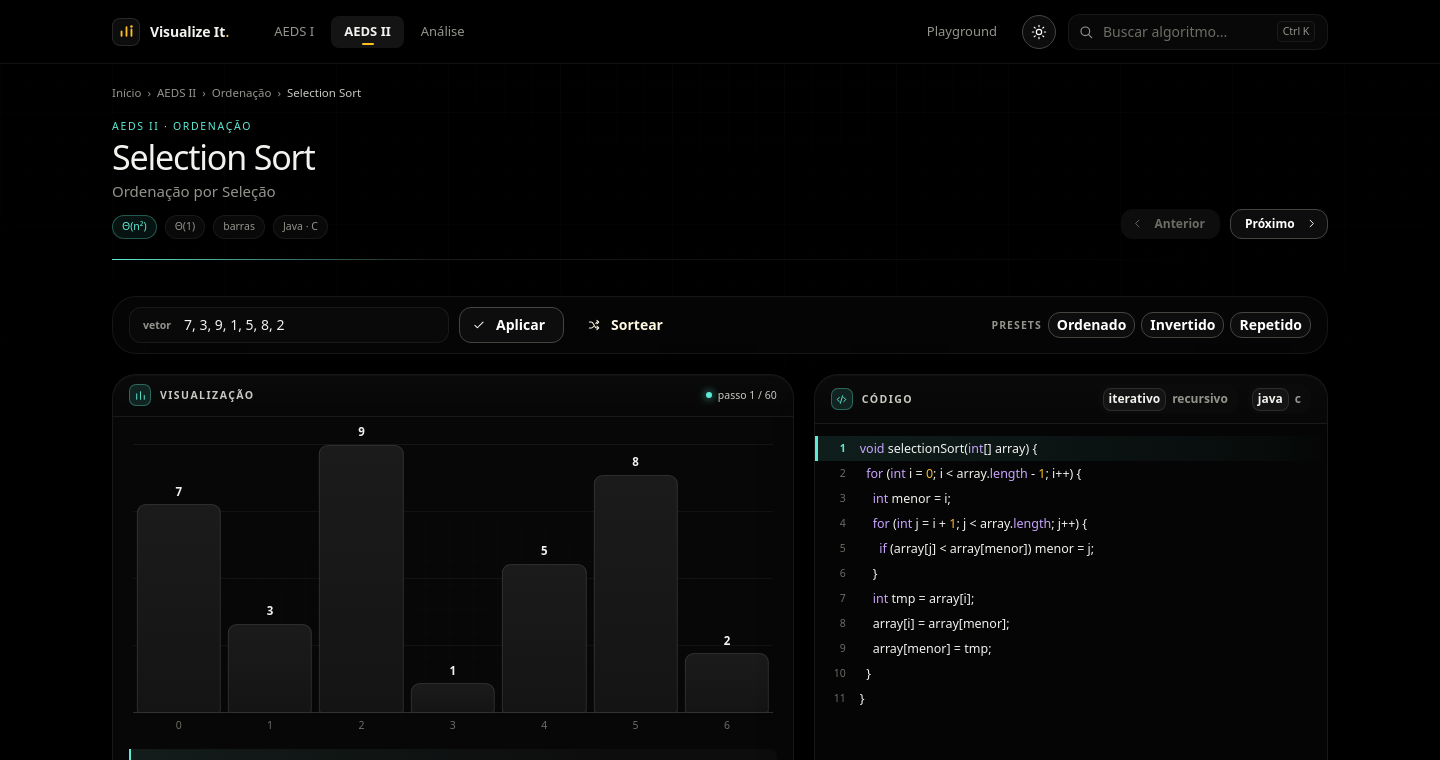
App › switches selection sort between iterative and recursive listings
What coordinates should you click on to do the following:
click the text "recursivo"
I would click on:
 (1200, 398)
Its box is [1172,390,1228,407].
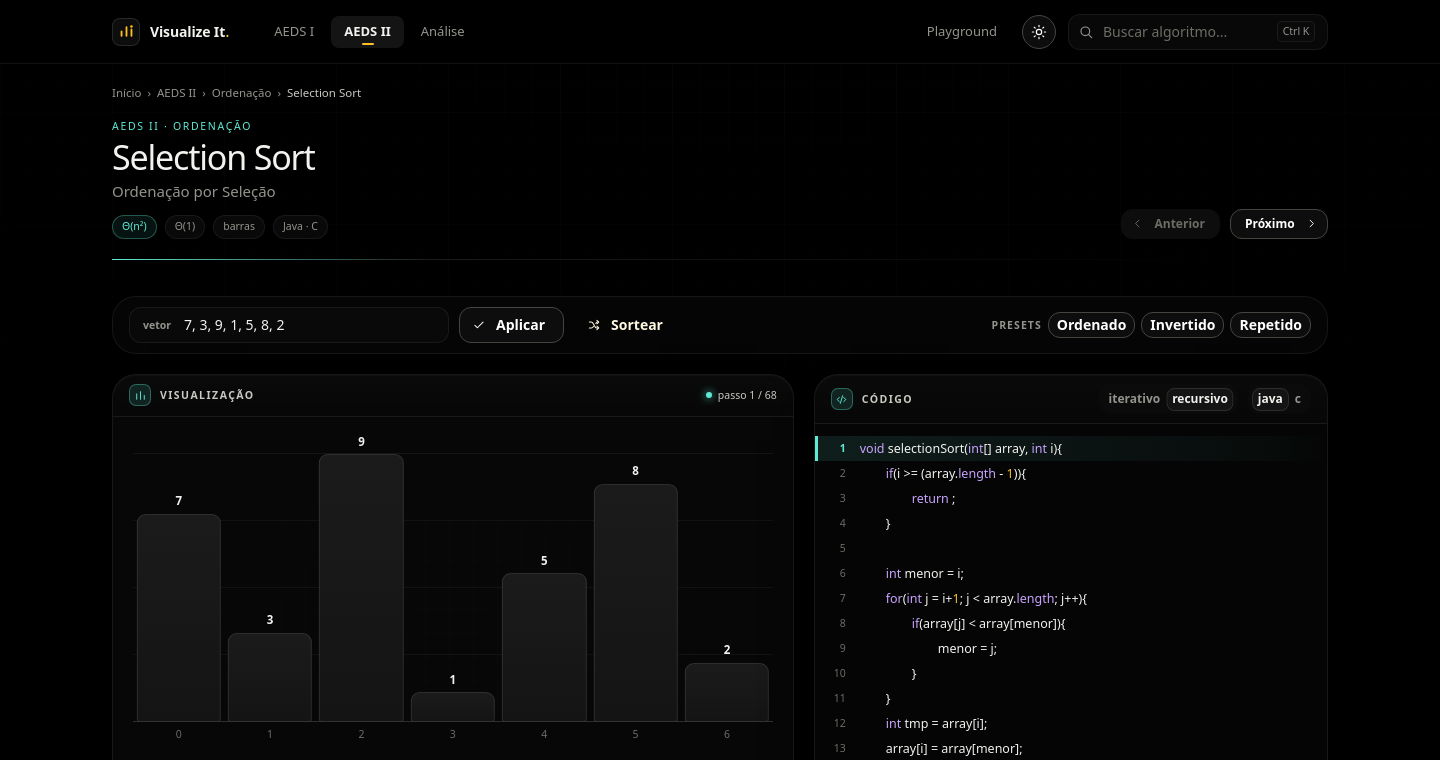
What coordinates should you click on to do the following:
click the text "c"
I would click on:
 (1298, 398)
Its box is [1295,390,1301,407].
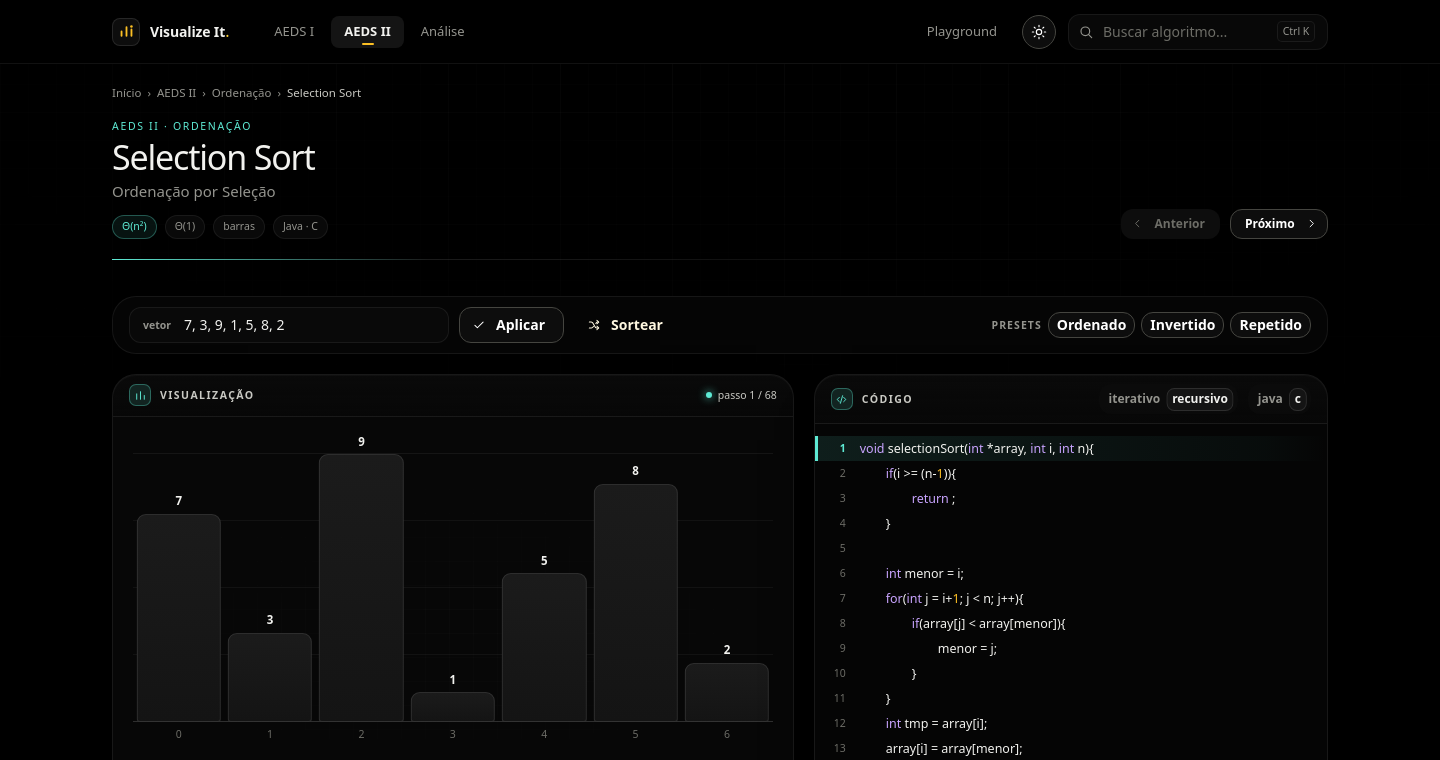
Expected: the text "void selectionSort(int *array, int i, int n)" is shown, [860,436,1094,462]
